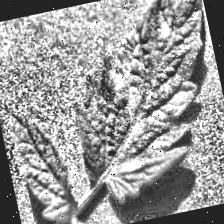leaf mold: (50, 0, 224, 205)
